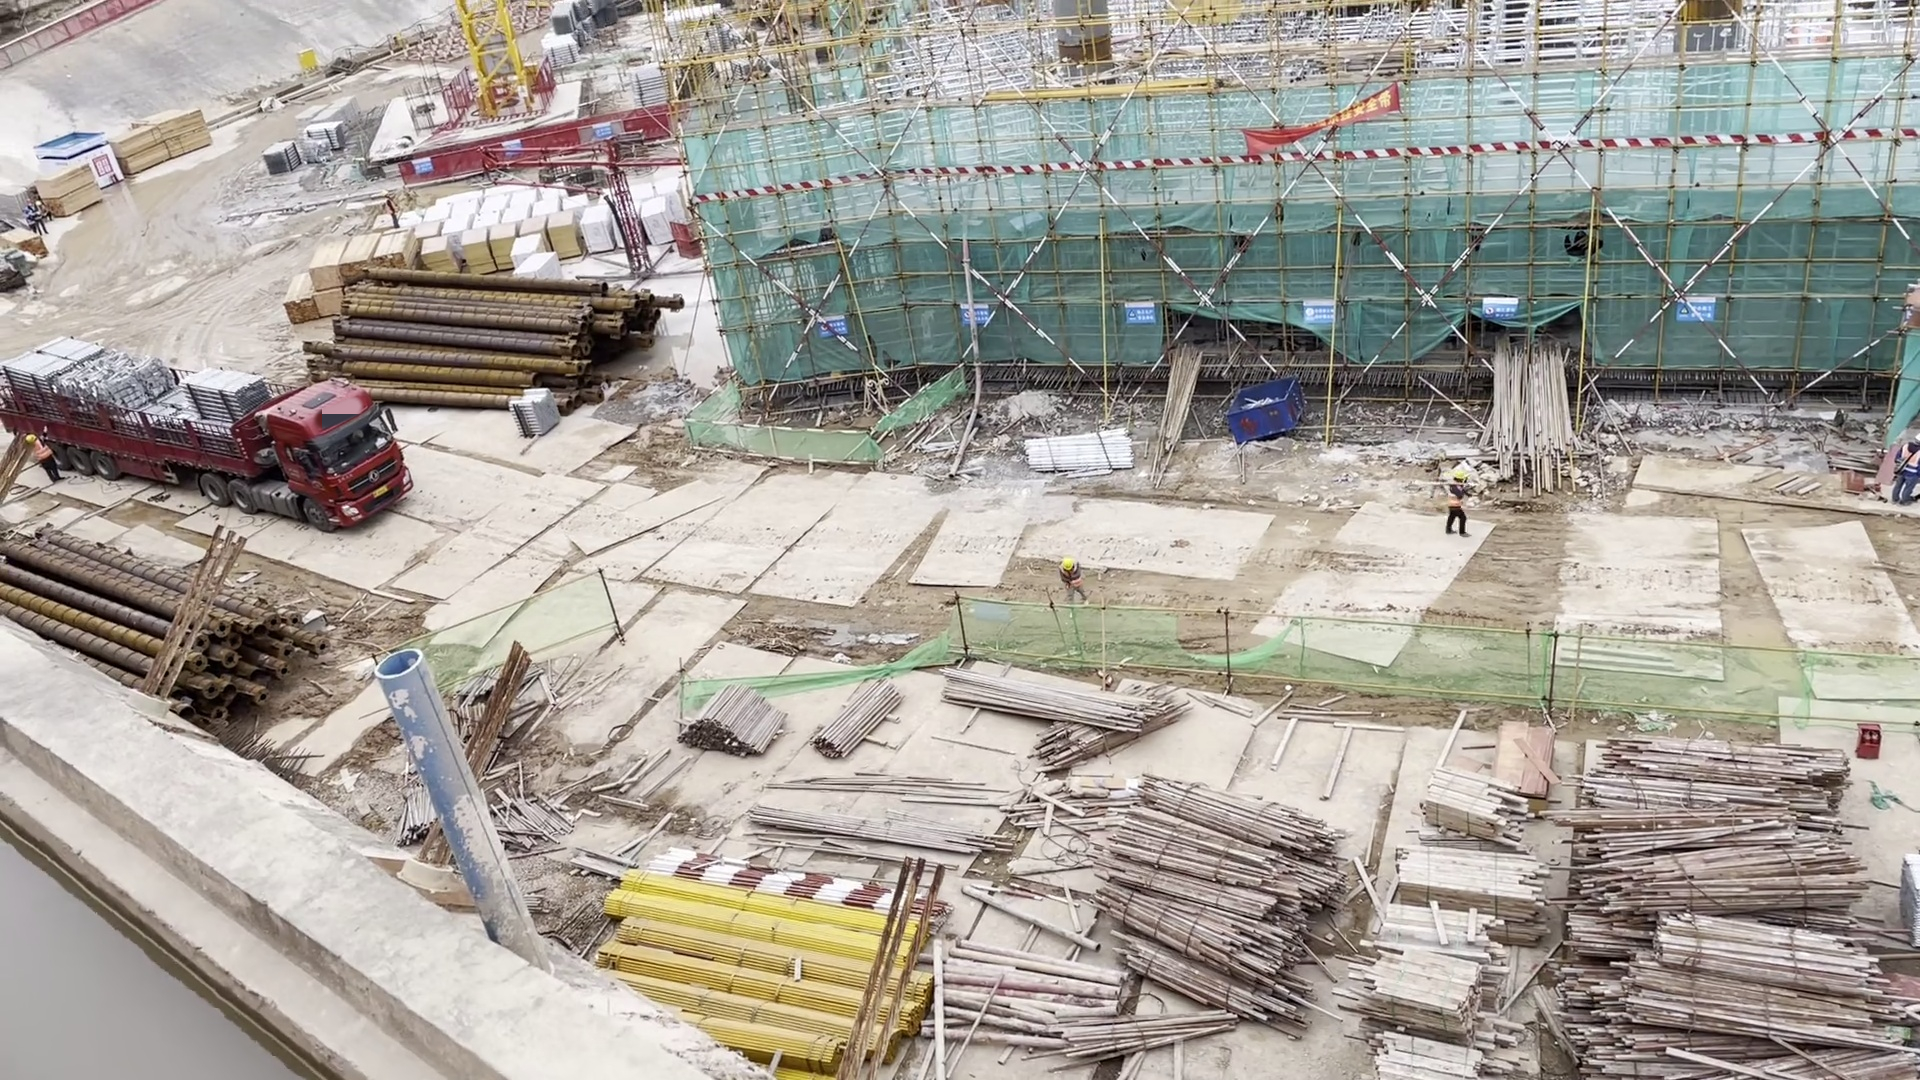board: (35, 160, 103, 219), (101, 118, 168, 170), (153, 108, 211, 157)
helmet: (1060, 554, 1076, 572), (1451, 465, 1464, 477), (1910, 433, 1920, 444)
person: (1442, 465, 1473, 539), (1060, 555, 1085, 602), (1899, 432, 1920, 482)
vest: (1901, 443, 1920, 477), (1449, 478, 1469, 509), (1061, 571, 1079, 589)
wood: (1544, 983, 1919, 1080), (1575, 811, 1869, 918), (1623, 968, 1873, 1053), (1108, 814, 1322, 907), (931, 663, 1175, 741), (1107, 930, 1297, 1028), (1645, 914, 1887, 992), (1582, 738, 1853, 806), (1130, 769, 1337, 850), (1109, 888, 1302, 965), (1344, 947, 1498, 1036), (1390, 849, 1543, 935), (1028, 695, 1187, 771), (1372, 907, 1523, 973), (1420, 767, 1533, 852), (678, 684, 791, 756), (813, 675, 905, 760), (1367, 1026, 1484, 1080), (1552, 915, 1661, 961)
